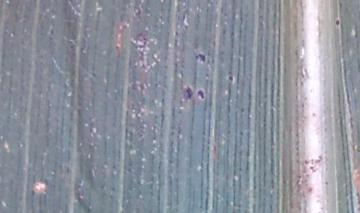tarspot: (182, 85, 194, 102), (195, 88, 206, 101), (193, 53, 207, 63), (307, 164, 318, 174), (133, 5, 142, 16), (314, 154, 323, 164), (226, 74, 235, 82), (48, 27, 56, 36), (90, 70, 98, 79), (64, 164, 71, 174), (306, 185, 313, 195), (302, 158, 310, 166), (237, 129, 244, 137), (238, 106, 245, 114), (310, 110, 317, 118), (334, 18, 340, 27), (114, 42, 120, 51)
